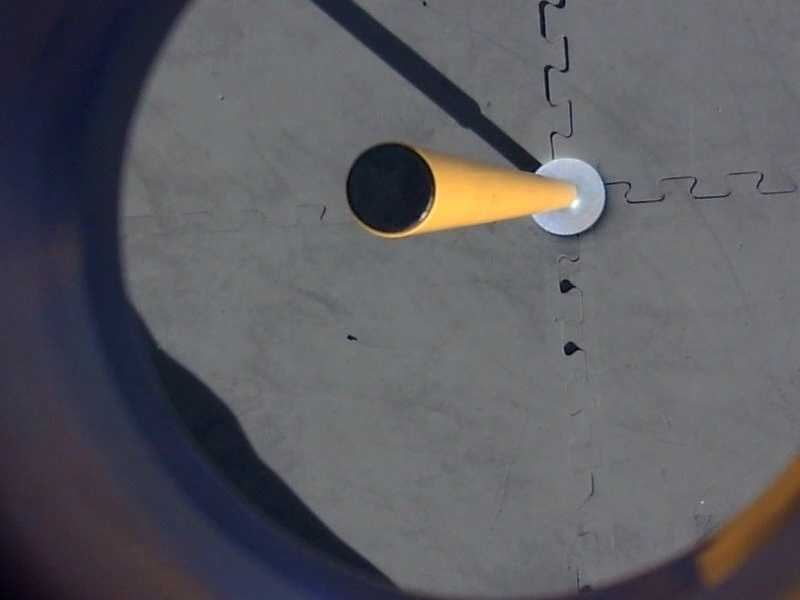tip: (339, 136, 442, 244)
